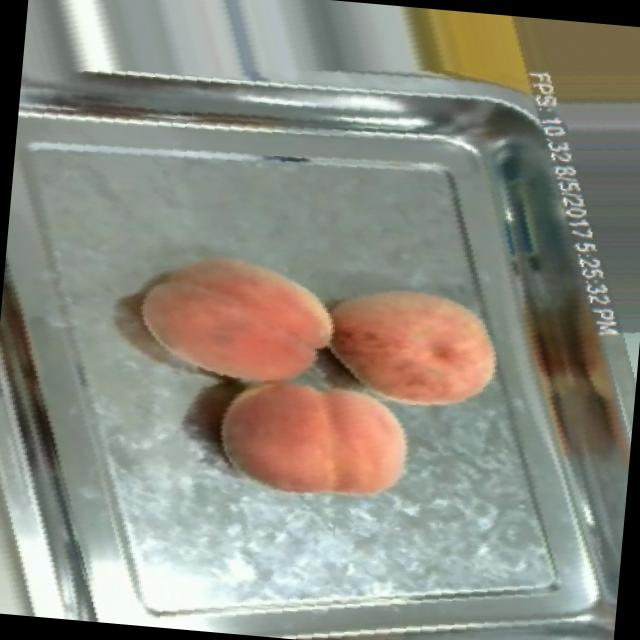Fruit: (192, 349, 433, 532), (116, 230, 348, 414), (308, 256, 522, 438), (482, 14, 640, 149)
